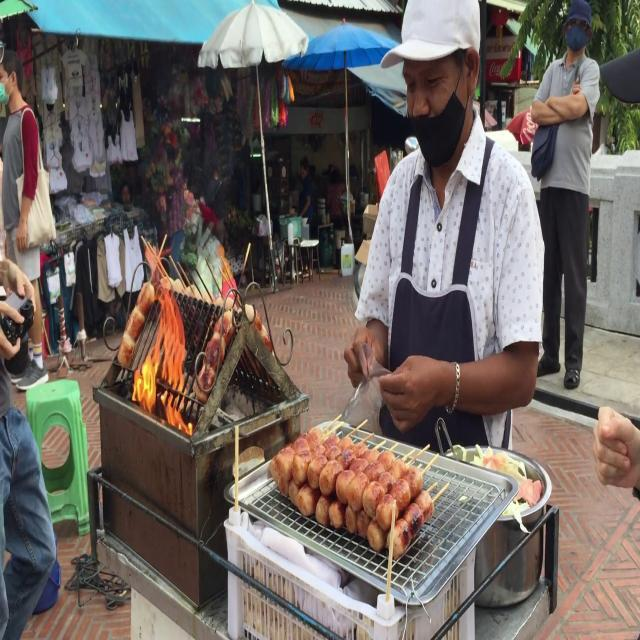Fire: (124, 274, 197, 440)
